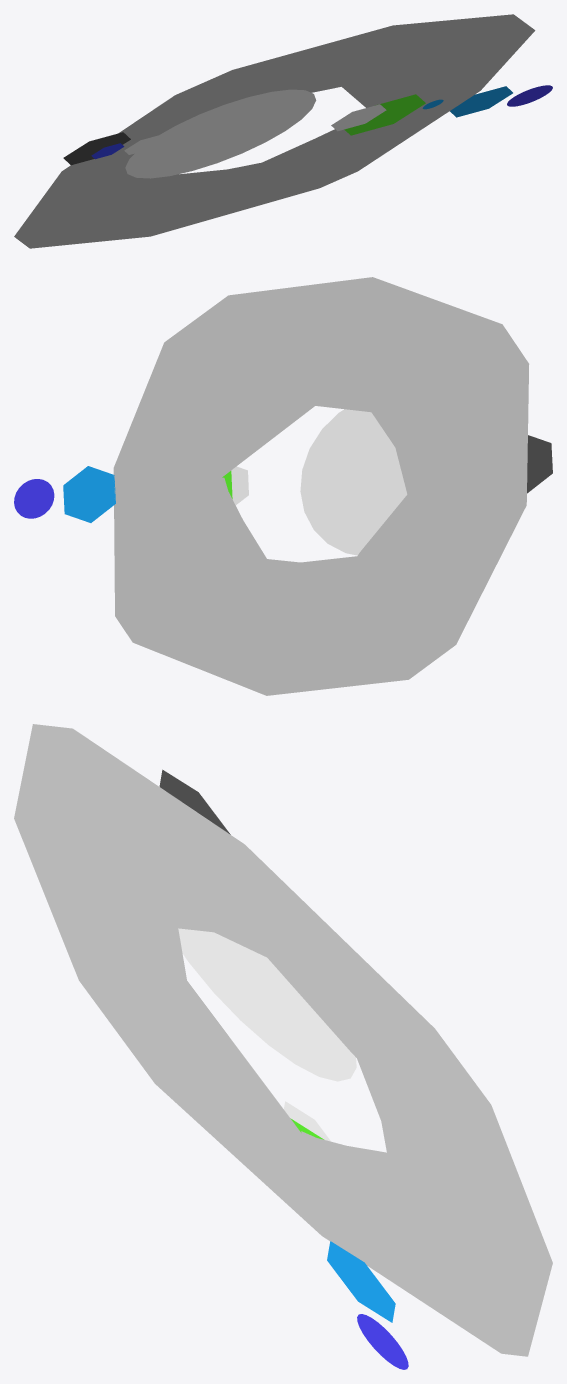
File: pref_fx_score_commonblast_02_000103_lv2.fbx
3 renders of one model, top to bottom at view 1: azimuth 30°, elevation 25°; view 2: azimuth 150°, elevation 25°; view 3: azimuth 270°, elevation 25°, orthographic. The views are drawn at different scales.
Visible parts, largest first — view 1: sm_hong, sm_guangban; view 2: sm_hong, sm_guangban; view 3: sm_hong, sm_guangban.
Boxes of the visible parts, <box> form: sm_hong: <box>14,14,535,248</box>; sm_guangban: <box>63,85,552,178</box>; sm_hong: <box>113,277,529,695</box>; sm_guangban: <box>14,409,552,555</box>; sm_hong: <box>14,724,552,1356</box>; sm_guangban: <box>159,769,408,1369</box>.
Size of what is drawn, in the model's own units: 8.57 by 4.9 by 4.9.
